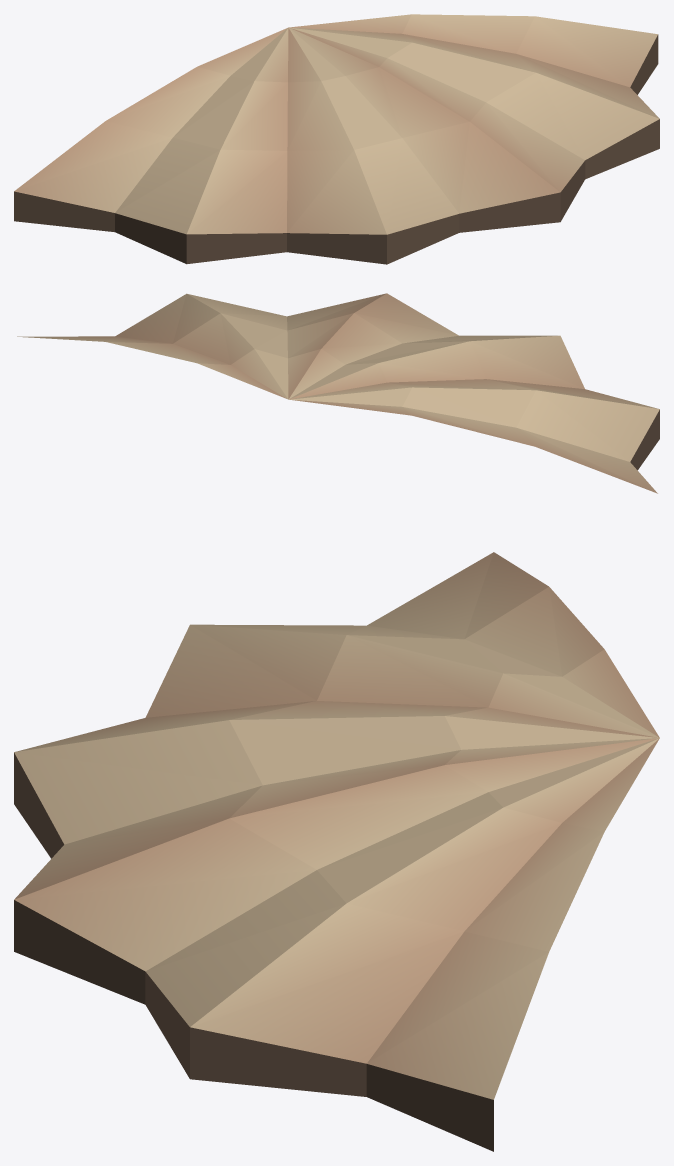
File: beach-shell-fan-v1.glb
3 renders of one model, top to bottom at view 1: azimuth 30°, elevation 25°; view 2: azimuth 150°, elevation 25°; view 3: azimuth 270°, elevation 25°, orthographic. The views are drawn at different scales.
Parts seen in each view (by area): view 1: beach-shell-fan-v1; view 2: beach-shell-fan-v1; view 3: beach-shell-fan-v1.
Part boxes in pixels (x1,y1,x2,y2): beach-shell-fan-v1: (14,14,659,264); beach-shell-fan-v1: (17,293,659,493); beach-shell-fan-v1: (14,552,659,1151).
Bounding box in the file's own units: 0.8815 × 0.105 × 0.4392.
